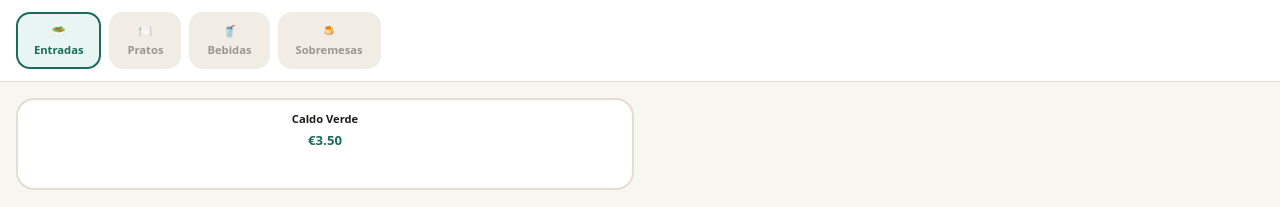
it: ProductGrid › filters to Sobremesas when that tab is clicked
What coordinates should you click on to do the following:
click the text "Sobremesas"
I would click on:
 (329, 50)
Its box is 296,41 -> 363,59.
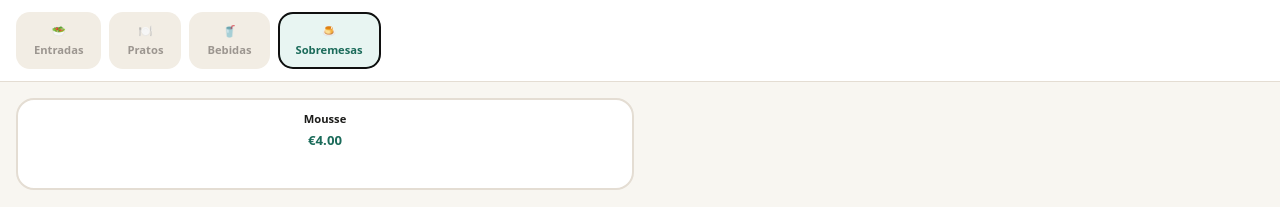
Check: the text "Mousse" is shown, box 304,112 -> 346,126
